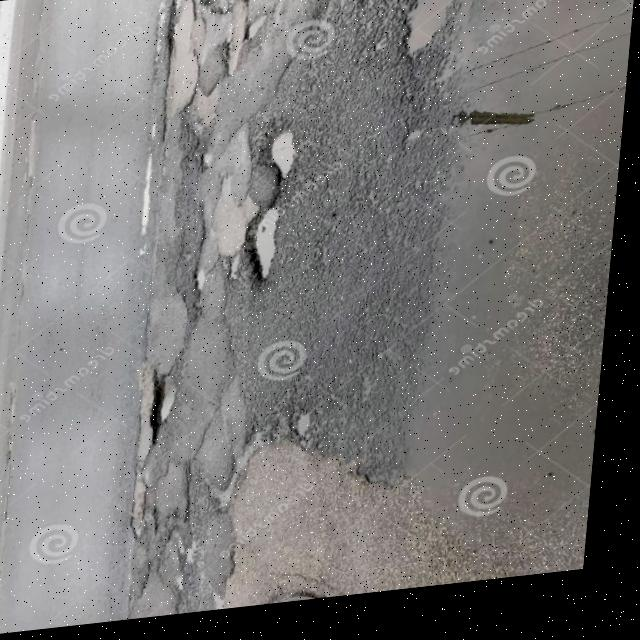Pothole: (351, 0, 640, 576), (215, 431, 290, 533), (140, 364, 199, 479), (252, 132, 313, 202), (250, 194, 291, 295), (180, 71, 224, 158), (157, 0, 204, 73), (294, 397, 331, 474), (235, 14, 278, 80), (201, 0, 263, 43), (228, 255, 250, 323), (187, 274, 214, 322), (196, 150, 221, 193)
